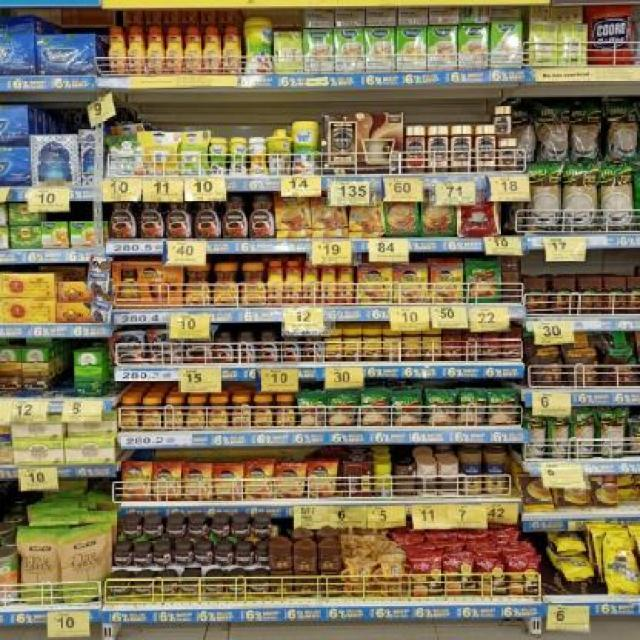Coffee: (311, 191, 348, 238), (276, 191, 310, 239), (351, 195, 385, 237), (394, 264, 428, 302), (429, 265, 463, 303), (110, 332, 146, 366), (358, 266, 391, 303), (110, 194, 137, 238), (148, 331, 184, 364), (166, 194, 192, 238), (194, 194, 220, 238), (249, 195, 275, 239), (184, 327, 214, 364), (123, 462, 152, 500), (212, 265, 239, 305), (222, 194, 246, 238), (139, 196, 163, 239), (245, 463, 273, 499), (185, 265, 209, 306), (309, 461, 336, 497), (476, 125, 497, 171), (276, 463, 304, 497), (184, 465, 212, 499), (243, 264, 266, 305), (153, 463, 179, 499), (451, 127, 472, 171), (428, 127, 448, 173), (215, 466, 243, 498), (185, 26, 203, 74), (165, 27, 183, 73), (204, 28, 221, 75), (108, 27, 126, 71), (128, 27, 145, 73), (223, 25, 239, 73), (147, 26, 163, 72), (207, 397, 229, 428), (258, 333, 280, 362), (275, 397, 296, 427), (337, 265, 353, 304), (186, 397, 206, 428), (214, 333, 235, 362), (164, 400, 185, 429), (140, 400, 161, 429), (319, 266, 335, 304), (253, 396, 273, 426), (286, 260, 300, 302), (236, 333, 256, 362), (230, 397, 250, 426), (498, 138, 516, 170), (268, 262, 282, 303), (303, 263, 317, 303), (282, 335, 301, 363), (152, 544, 174, 568), (119, 400, 137, 429), (495, 105, 511, 137), (303, 335, 322, 361), (173, 545, 194, 567), (234, 547, 256, 568), (214, 545, 234, 567), (133, 547, 153, 569), (250, 577, 273, 596), (113, 544, 131, 568), (195, 544, 214, 566), (187, 521, 209, 539), (163, 521, 185, 539), (203, 578, 225, 596), (143, 522, 163, 541), (133, 580, 154, 598), (255, 546, 273, 566), (179, 579, 199, 597), (212, 520, 231, 538), (121, 520, 139, 539), (252, 520, 270, 539), (232, 521, 250, 540), (157, 579, 176, 597), (108, 581, 129, 597), (228, 578, 246, 596)
